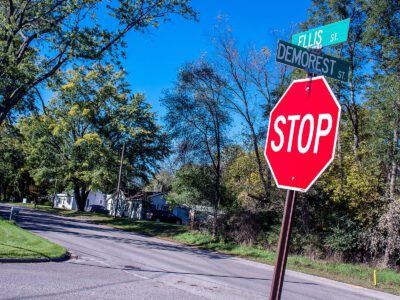stop: (265, 92, 336, 180)
